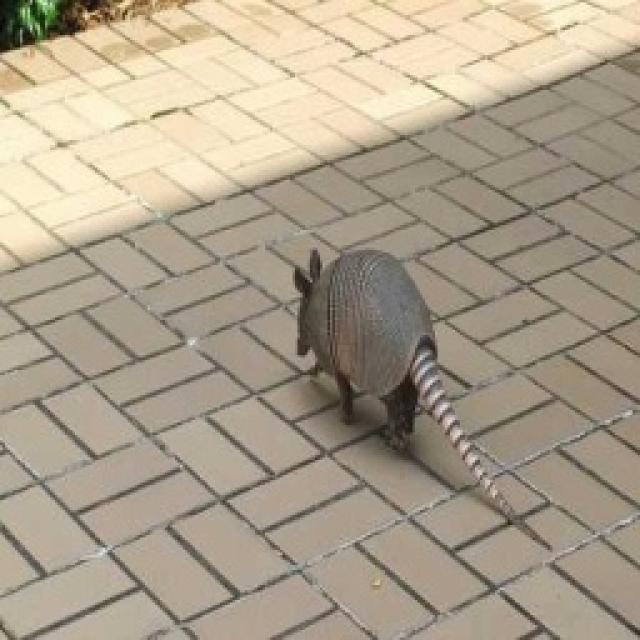not_pig: (290, 242, 518, 522)
